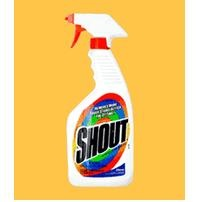grozi_86: (0, 0, 200, 202)
